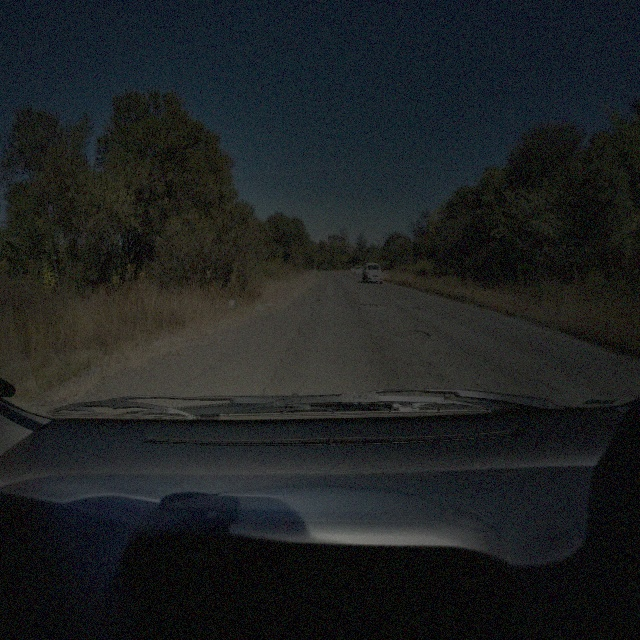pothole: (400, 324, 431, 340), (357, 299, 378, 308), (410, 304, 421, 310)
